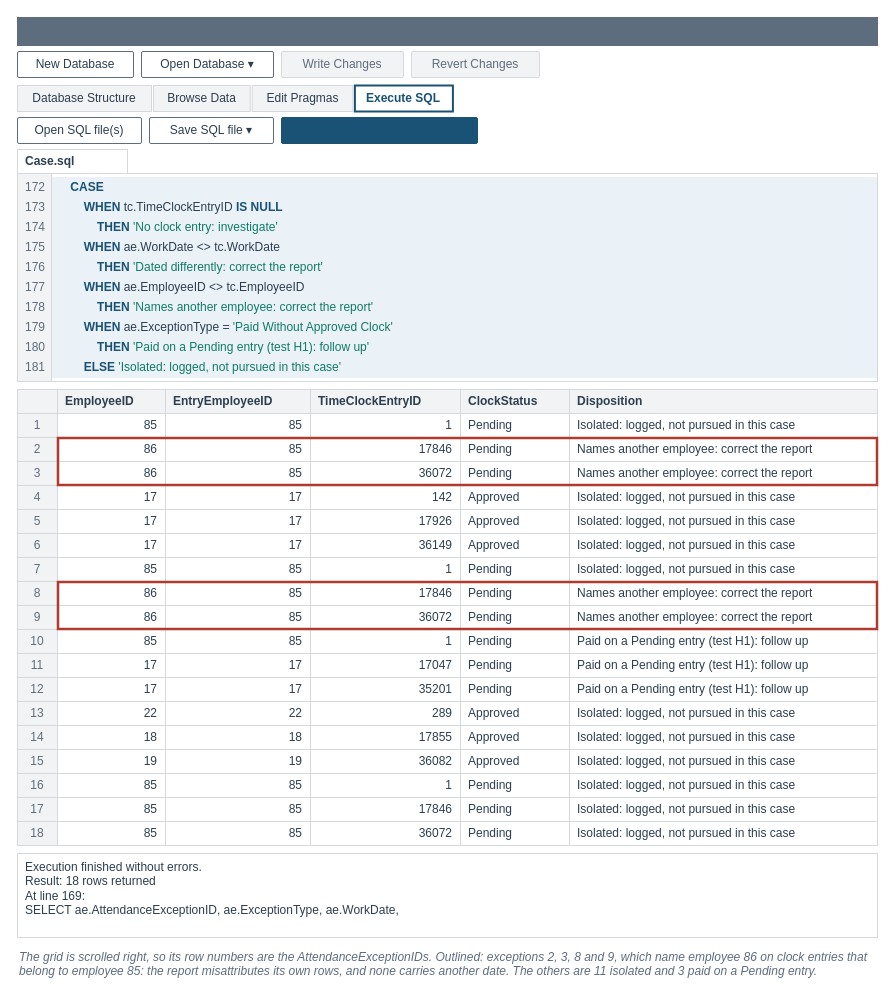
Image size: 896x1001. Some labels were removed from this diagram. The centre of each missing label's shape, as x and y in pixels:
"DB Browser for SQLite - C:\Users\you\Documents\CharlesRiver_Work.sqlite" belongs at point 447,31.
"▶ Execute all/selected SQL" belongs at point 379,130.
